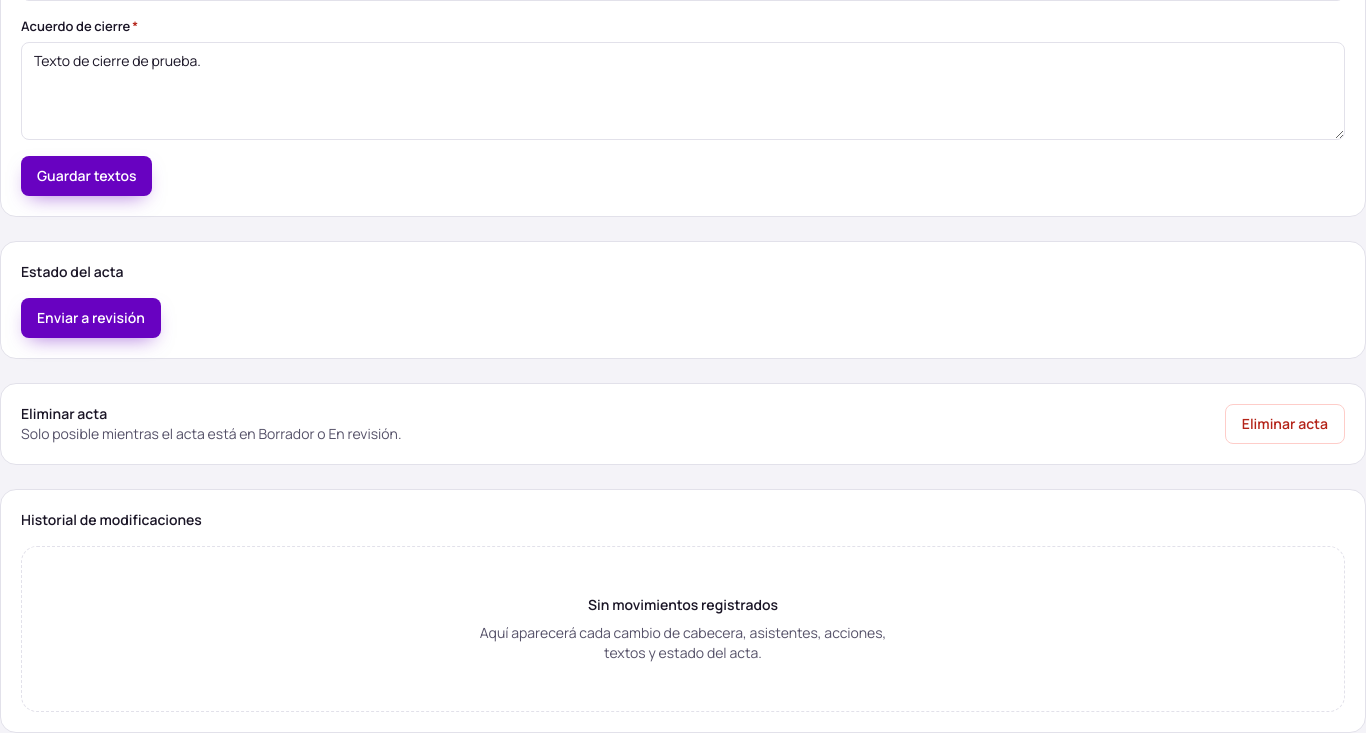
it: RF-CH-050 — eliminar en Borrador o En revisión › el motivo del 409 se muestra en el diálogo sin cerrarlo
(page scrolled)
What coordinates should you click on to do the following:
click the button "Eliminar acta"
I would click on:
 (1285, 424)
Its box is x1=1225 y1=404 x2=1345 y2=444.
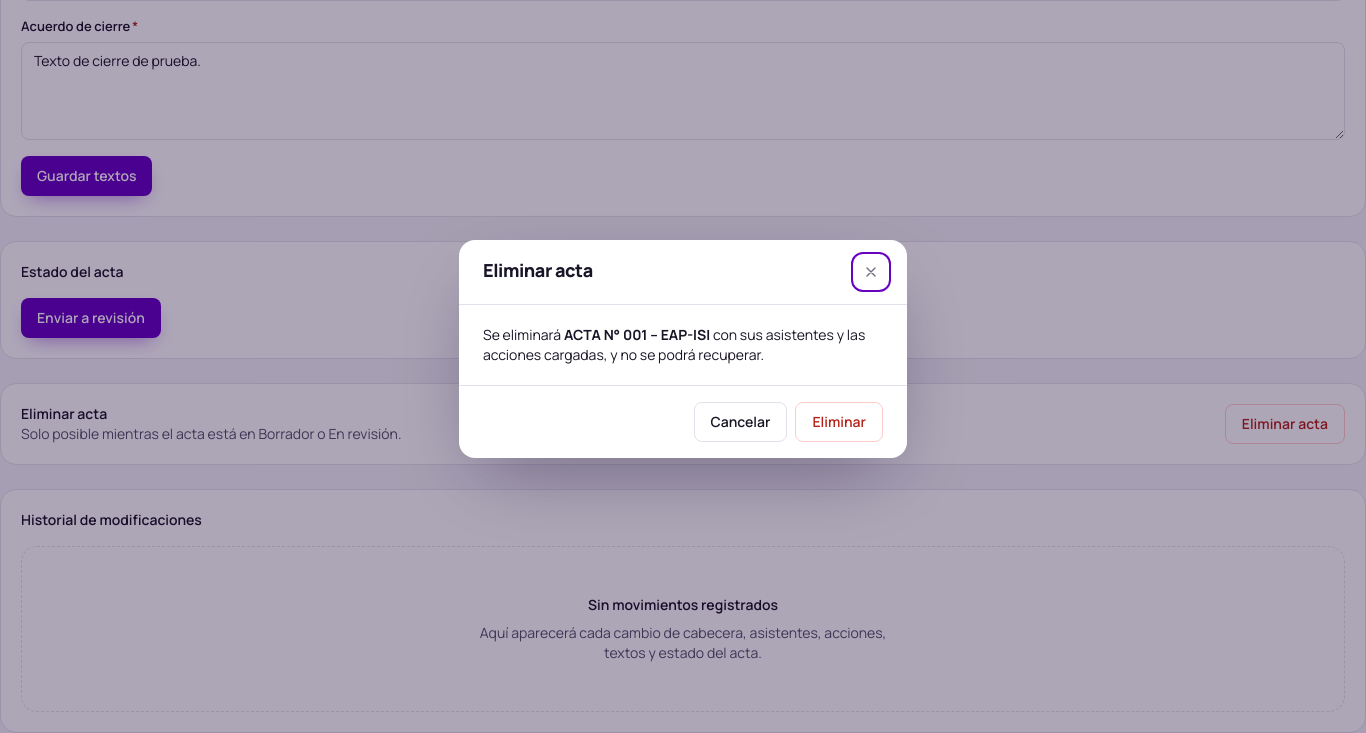
What coordinates should you click on to do the following:
click the button "Eliminar"
I would click on:
 (839, 422)
Its box is x1=795 y1=402 x2=883 y2=442.
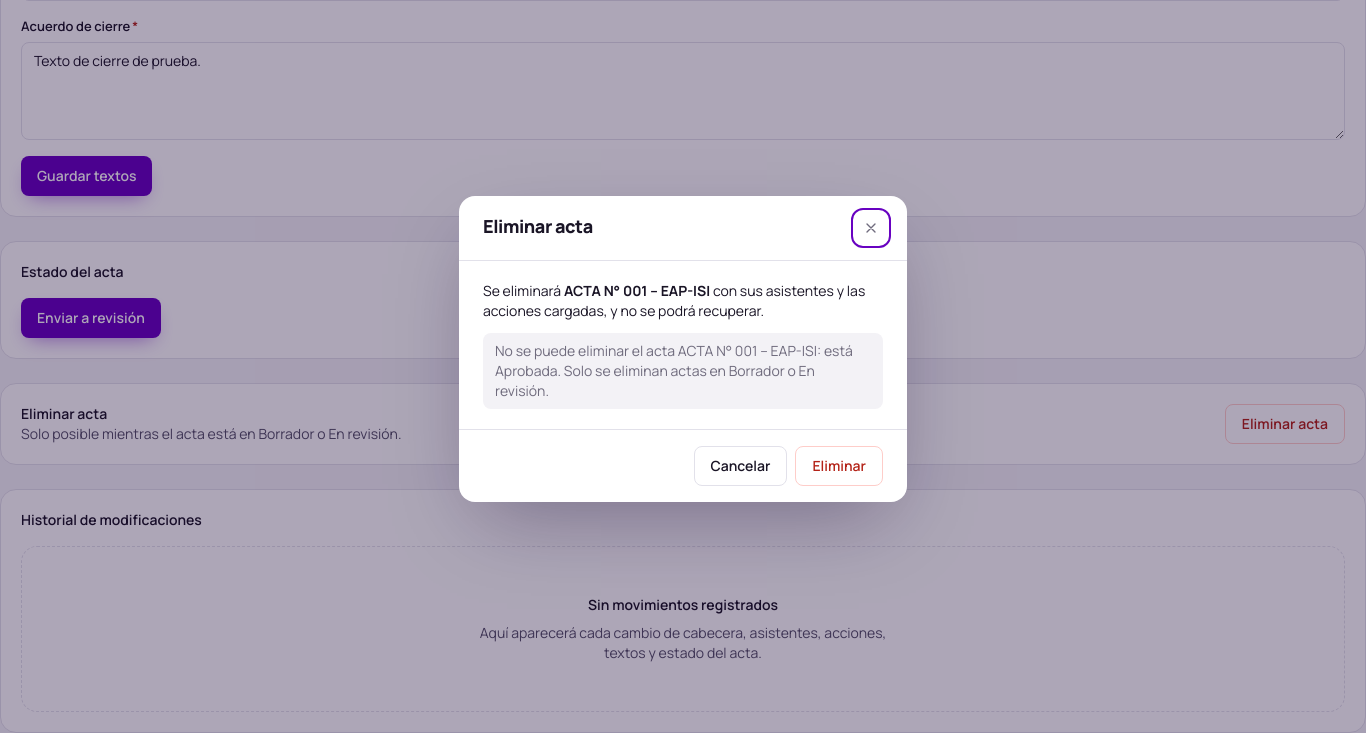
Expected: the dialog is shown, x1=459 y1=196 x2=907 y2=502
Expected: the message shows "No se puede eliminar el acta ACTA N° 001 – EAP-ISI: está Aprobada. Solo se eliminan actas en Borrador o En revisión.", x1=495 y1=341 x2=853 y2=400
